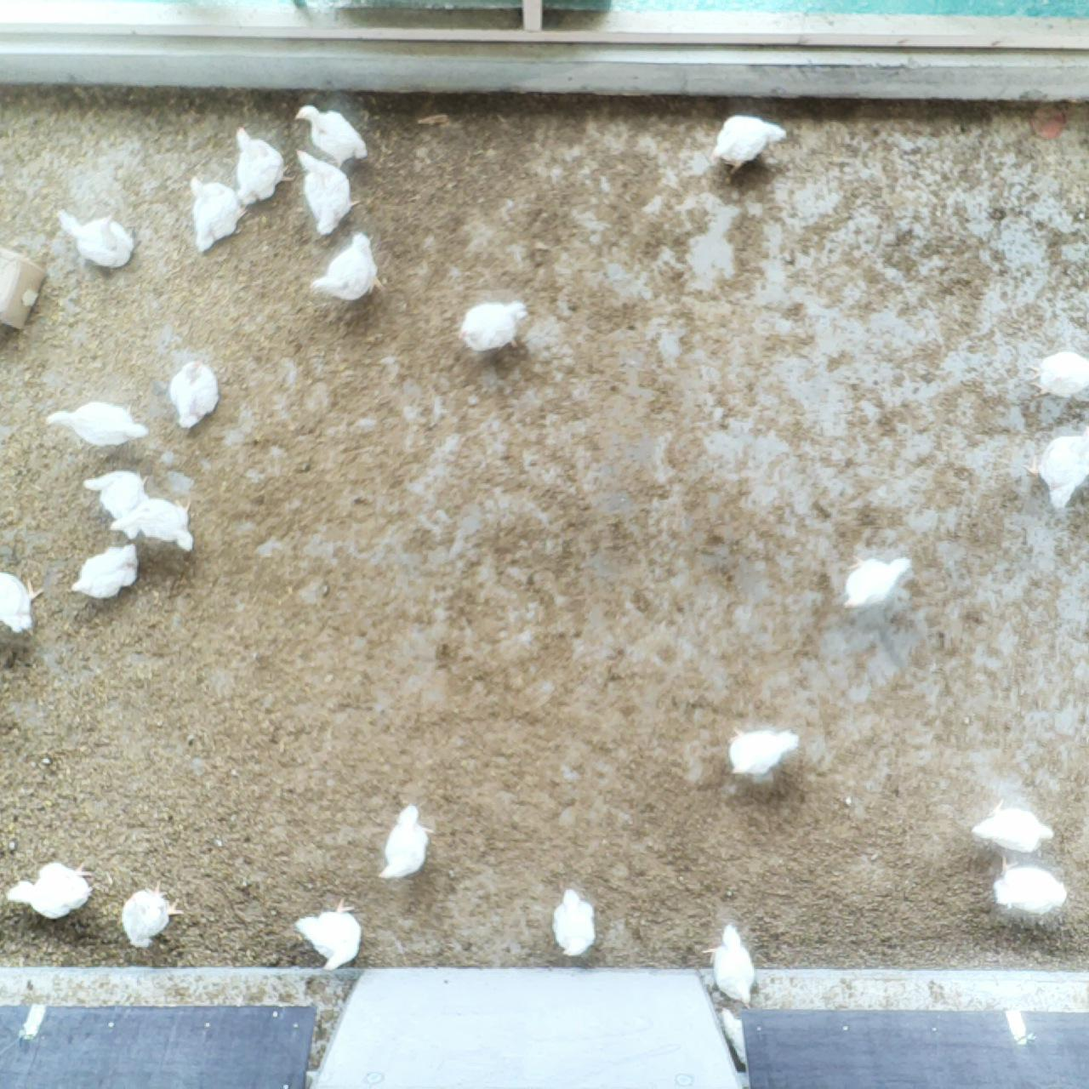chicken: (291, 144, 362, 239), (41, 394, 152, 453), (6, 858, 101, 926), (182, 168, 251, 259), (1020, 423, 1089, 513), (310, 229, 390, 306), (229, 121, 297, 210), (289, 100, 372, 171), (372, 800, 439, 886), (968, 794, 1058, 858), (108, 492, 199, 555), (291, 894, 365, 971), (710, 112, 792, 181), (700, 919, 760, 1012), (54, 204, 136, 271), (990, 852, 1072, 918), (119, 874, 187, 953), (840, 549, 918, 616), (449, 295, 532, 357), (724, 720, 804, 783), (546, 882, 602, 961), (167, 355, 222, 433), (1023, 346, 1089, 407), (81, 465, 151, 522), (0, 568, 47, 641), (67, 551, 126, 604), (103, 541, 141, 589)
